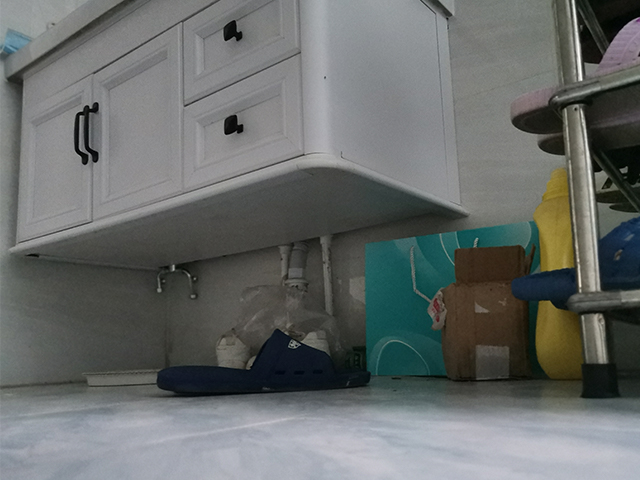slippers: (155, 327, 373, 397)
